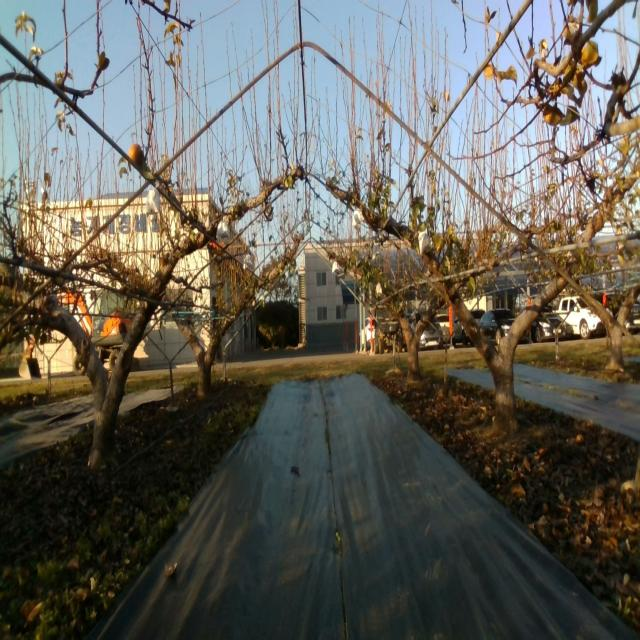pearbags: (146, 188, 161, 218), (216, 217, 230, 242), (418, 231, 431, 256)
